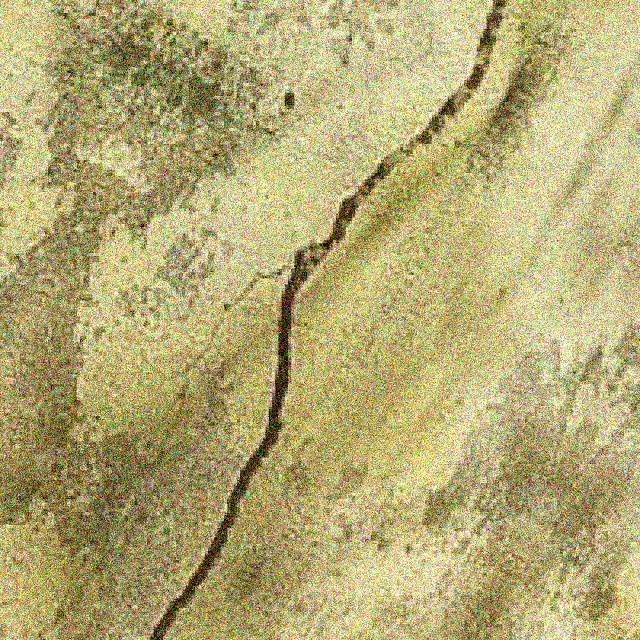SurfaceCrack: (138, 0, 518, 640)
